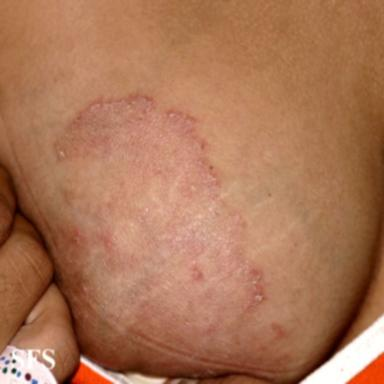Tinea-Corporis: (52, 92, 264, 333)
